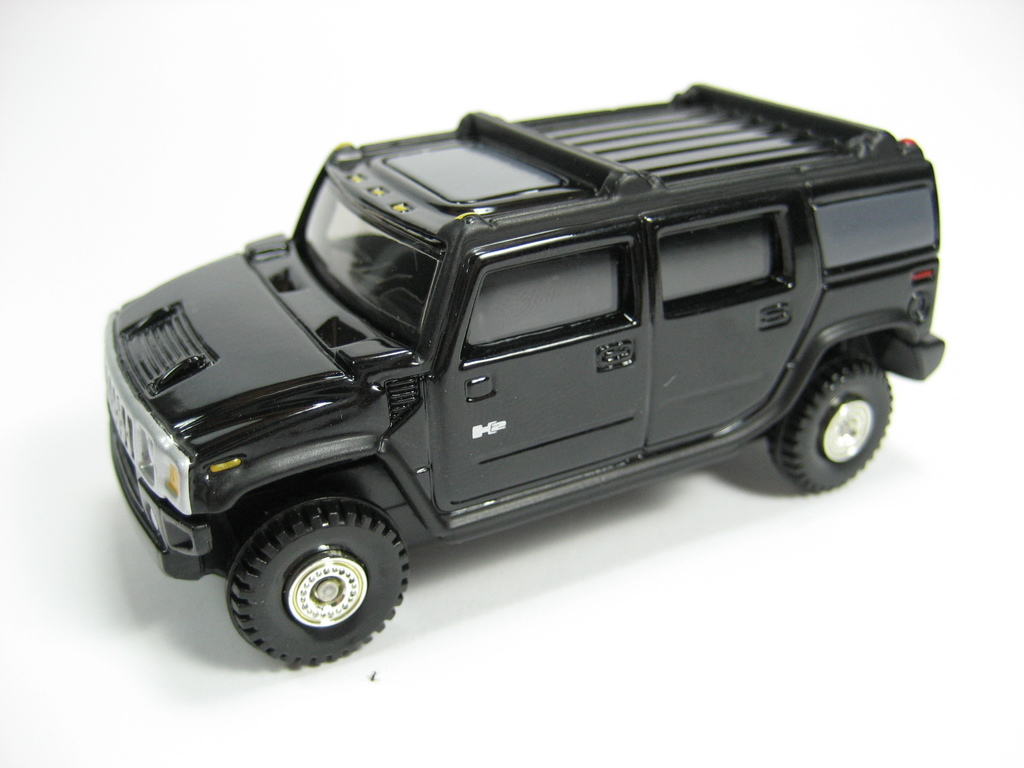Car: (140, 115, 924, 584)
